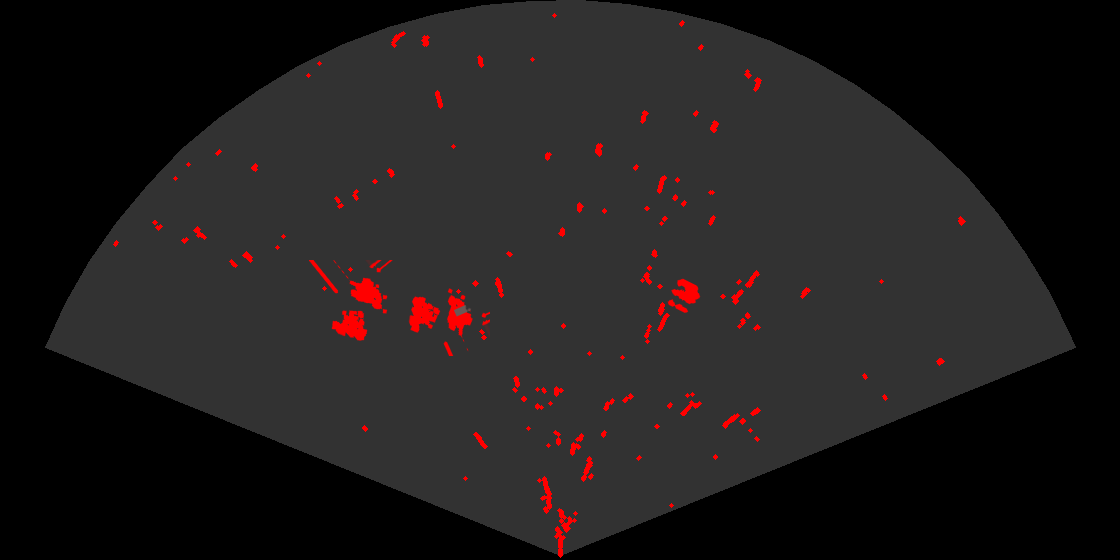ball: (666, 277, 702, 315)
cage: (309, 260, 394, 342), (407, 287, 490, 356)
